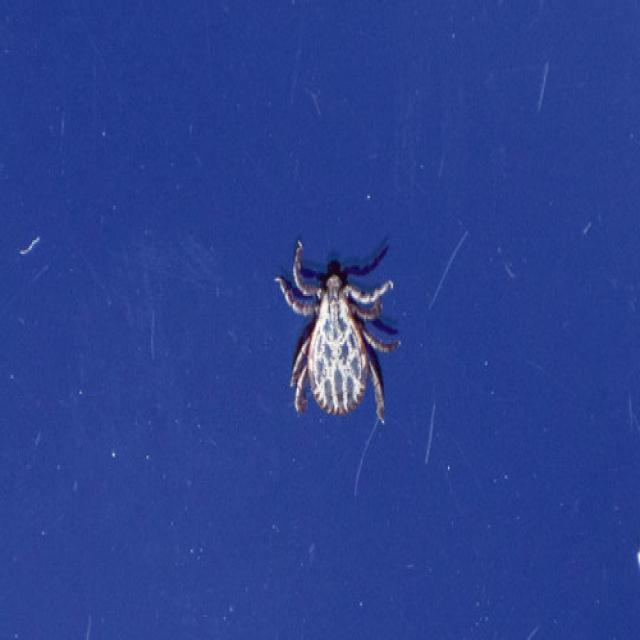Dermacentor Reticulatus-M: (275, 240, 402, 423)
